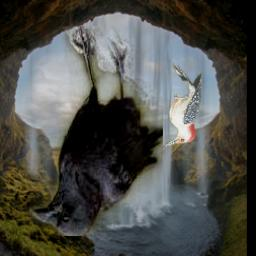Crow: (29, 27, 163, 237)
Woodpecker: (163, 64, 202, 147)
